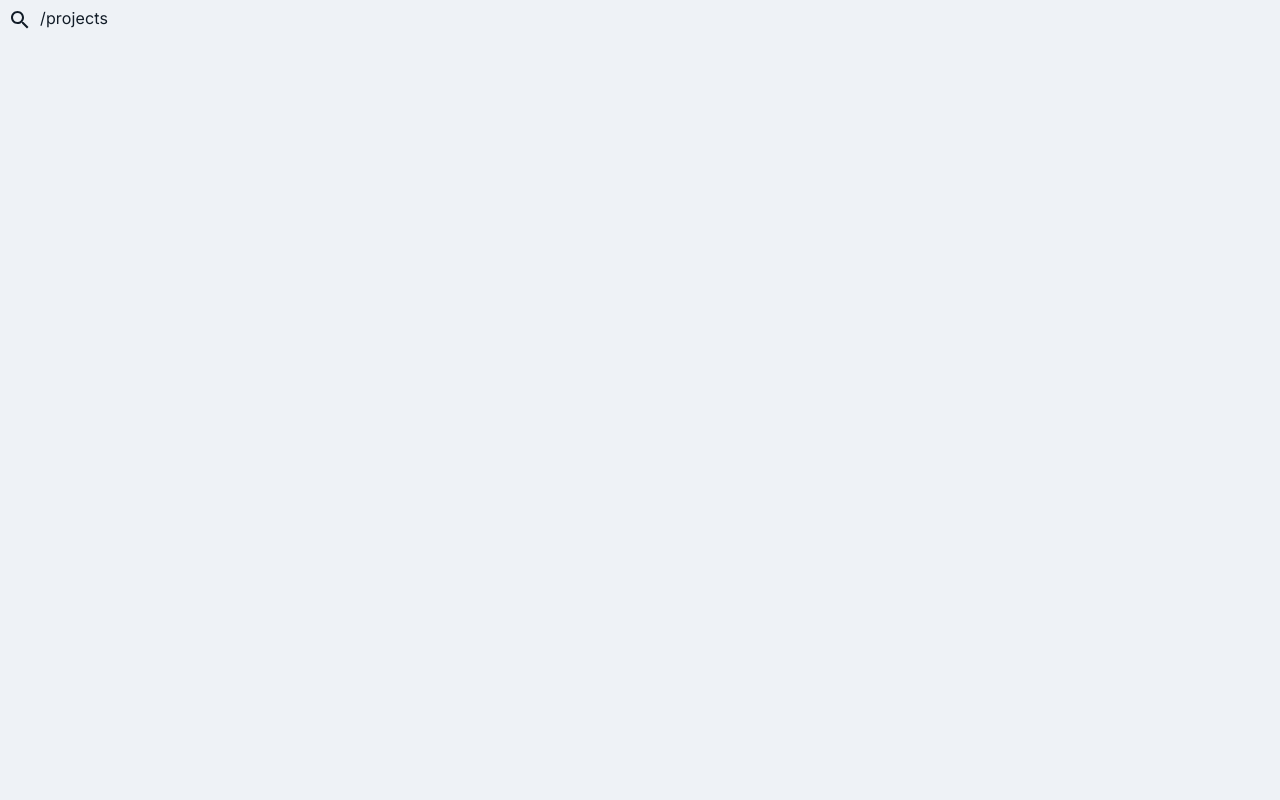
Test: command palette › critical milestones lists only the open critical ones; high priority adds the high ones, most important first
Press k
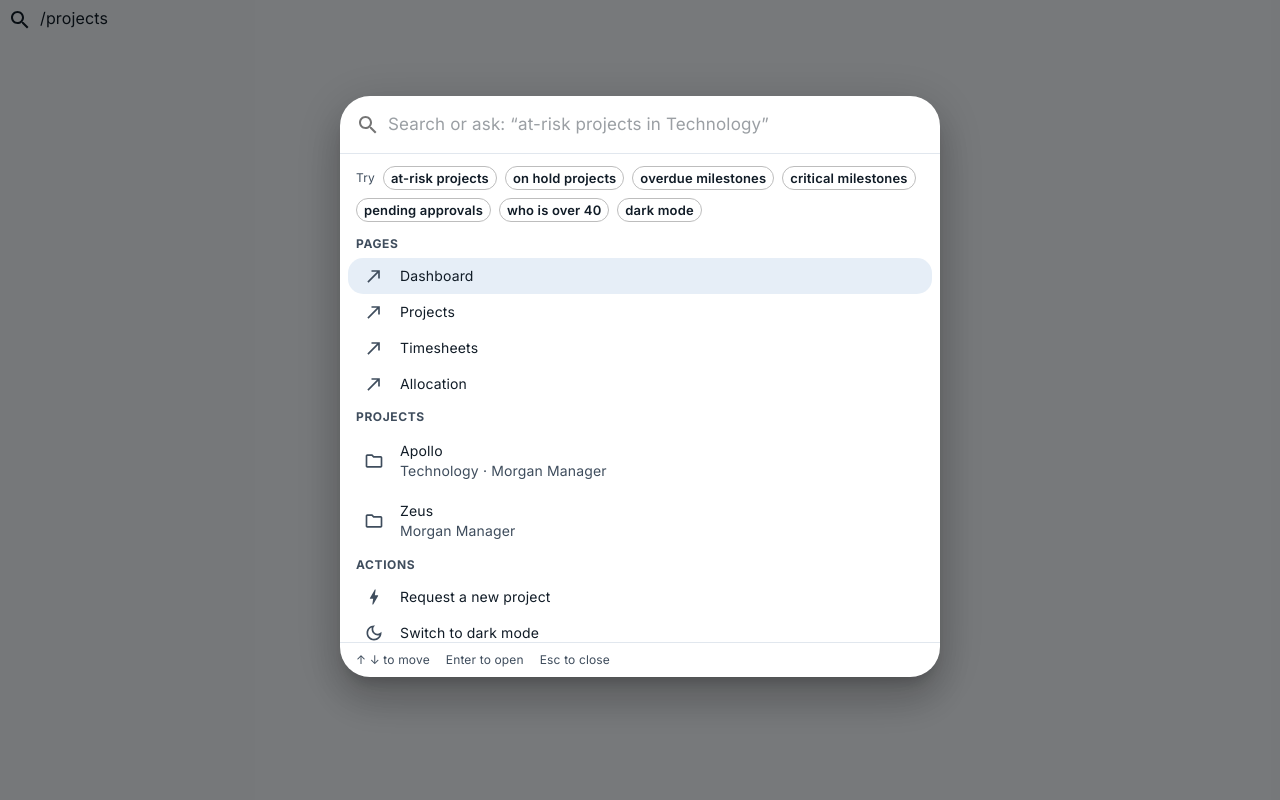
Type "critical milestones" into the dropdown at [656, 125], box [388,108,924,141]
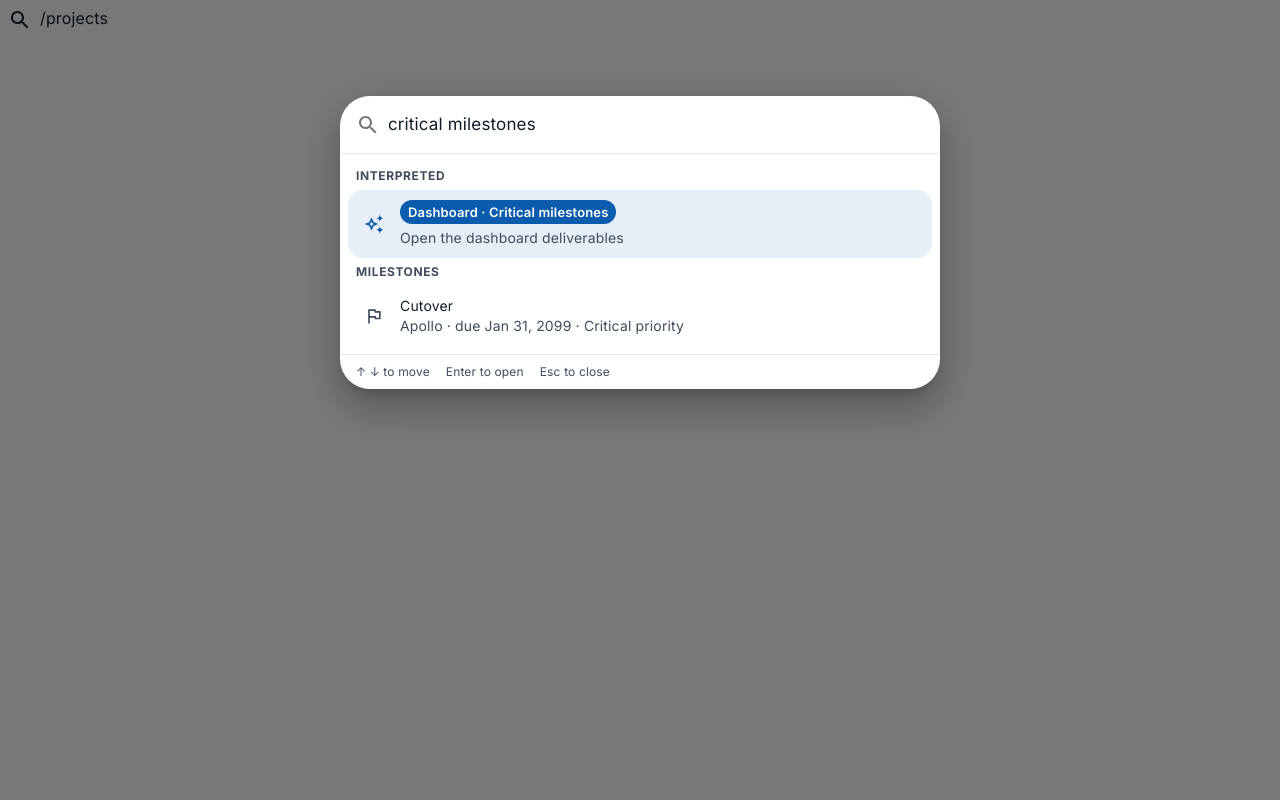
Expected: the option "schema mapping" is not shown
Expected: the text "Dashboard · Critical milestones" is shown, [400,203,616,222]
Expected: the option "Cutover Apollo · due Jan 31, 2099 · Critical priority" is shown, [364,298,684,334]
Replace the text in the dropdown named "Search Scout" with "high priority milestones" at [656, 125], box [388,108,924,141]
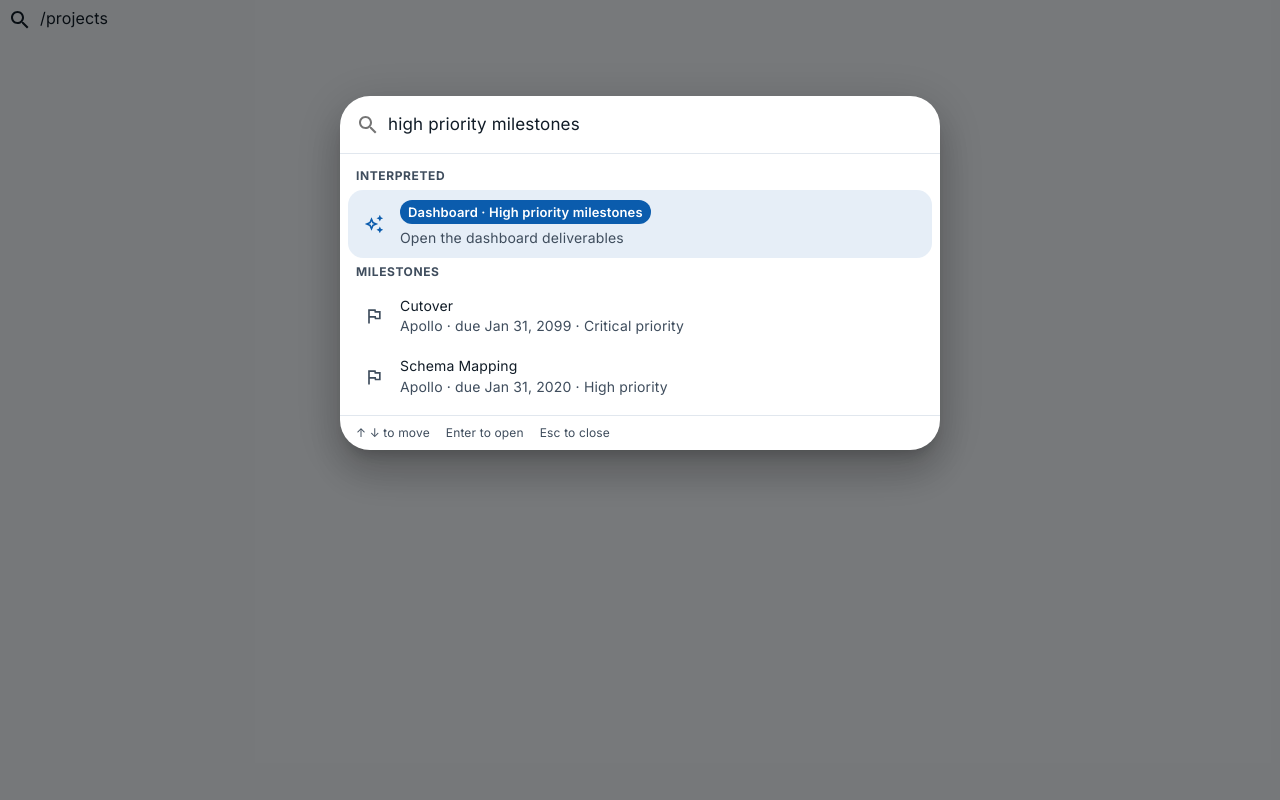
Expected: the text "Dashboard · High priority milestones" is shown, [400,203,651,222]
Expected: the option "Schema Mapping Apollo · due Jan 31, 2020 · High priority" is shown, [364,358,668,394]
